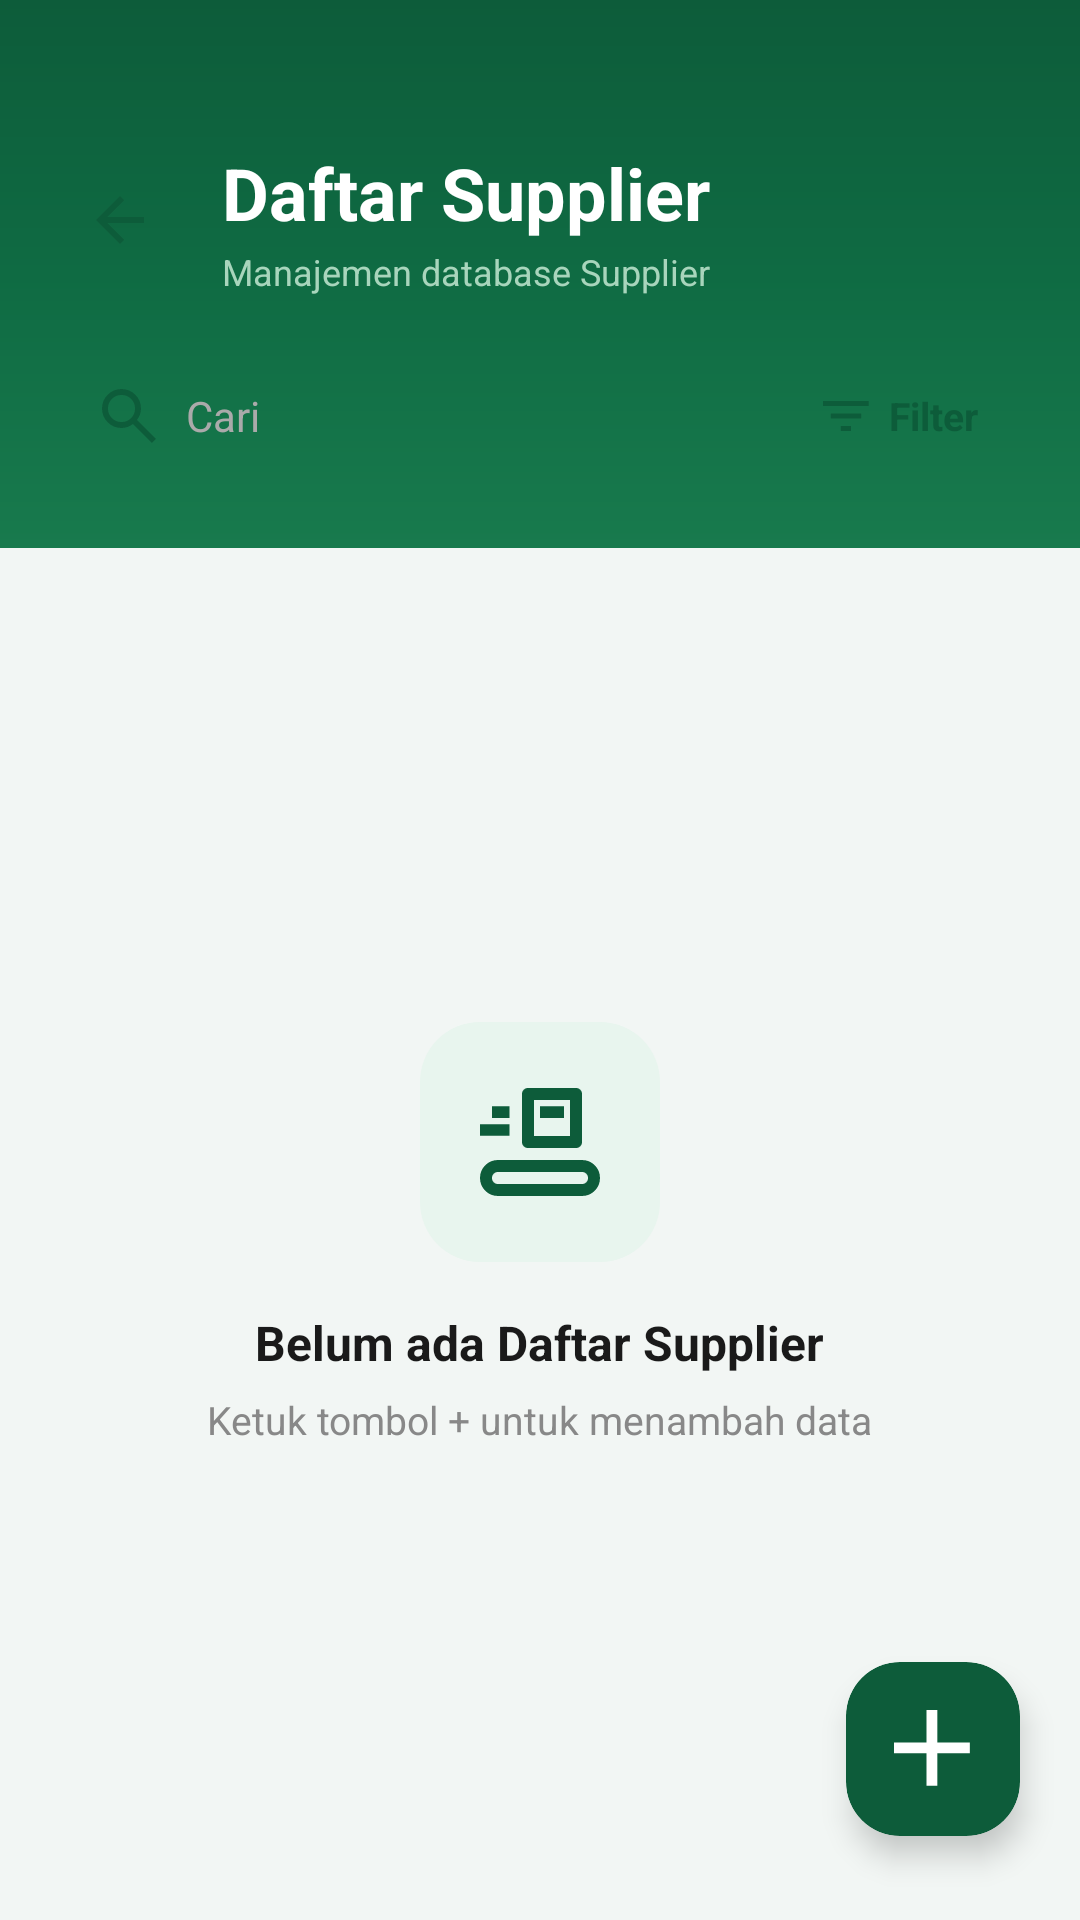

Icon click points for this 1080 x 1920 phone screenshot, format (x=x, y=y):
Tambah Supplier: (x=932, y=1748)
